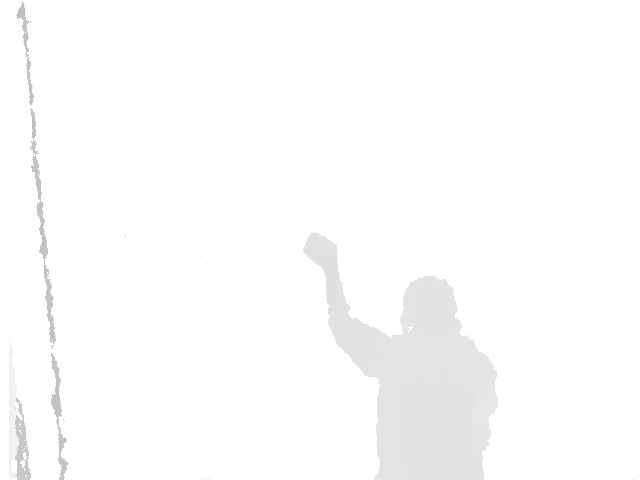hand: (303, 232, 339, 273)
head: (398, 276, 463, 342)
person: (303, 232, 498, 480)
